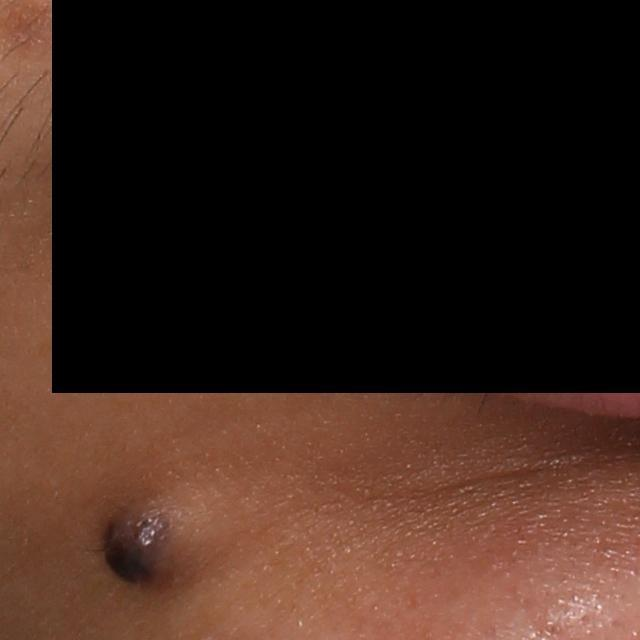nevus: (96, 486, 220, 593)
